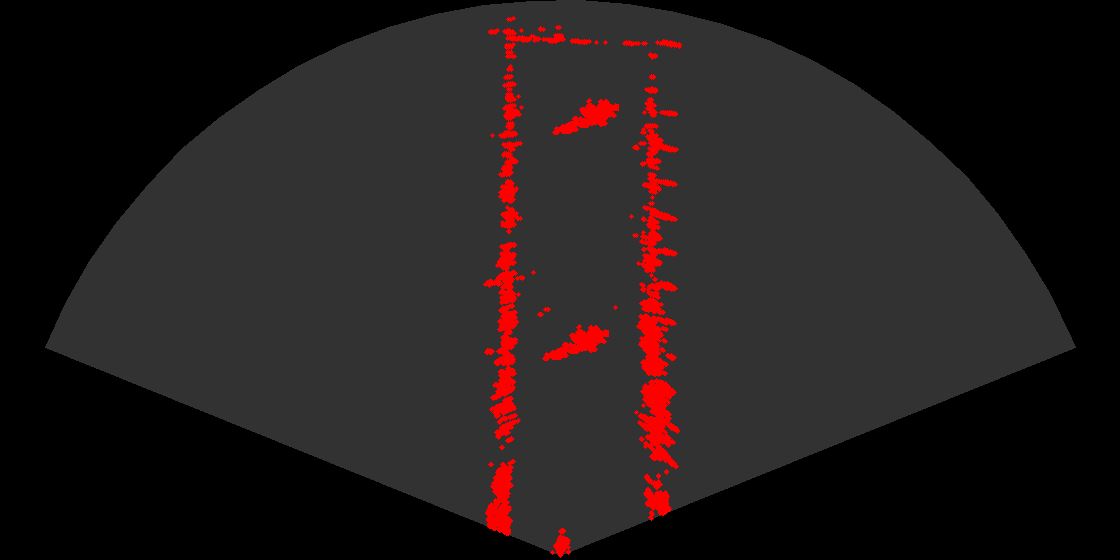frogman: (551, 92, 619, 139), (541, 318, 609, 365)
